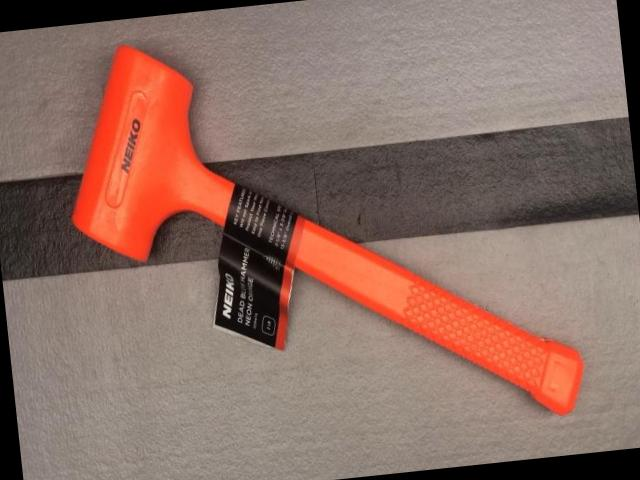hammer: (55, 1, 591, 464)
